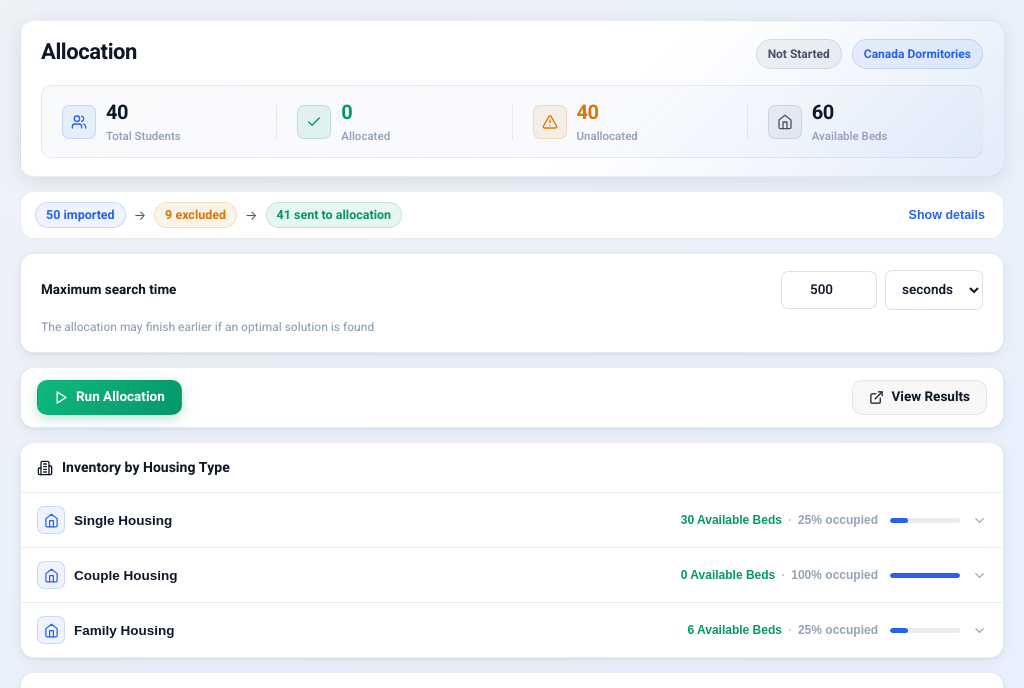
Test case: AllocationPage initial load › shows the population summary and reveals the exclusion breakdown on demand
This screenshot has width=1024, height=688.
Expected: the button "View Results" is shown, [852, 380, 987, 415]
Expected: the text "50 imported" is shown, [35, 202, 126, 228]
What coordinates should you click on to do the following:
click the button "Show details"
I would click on:
 (947, 215)
Its box is [905, 206, 989, 224].
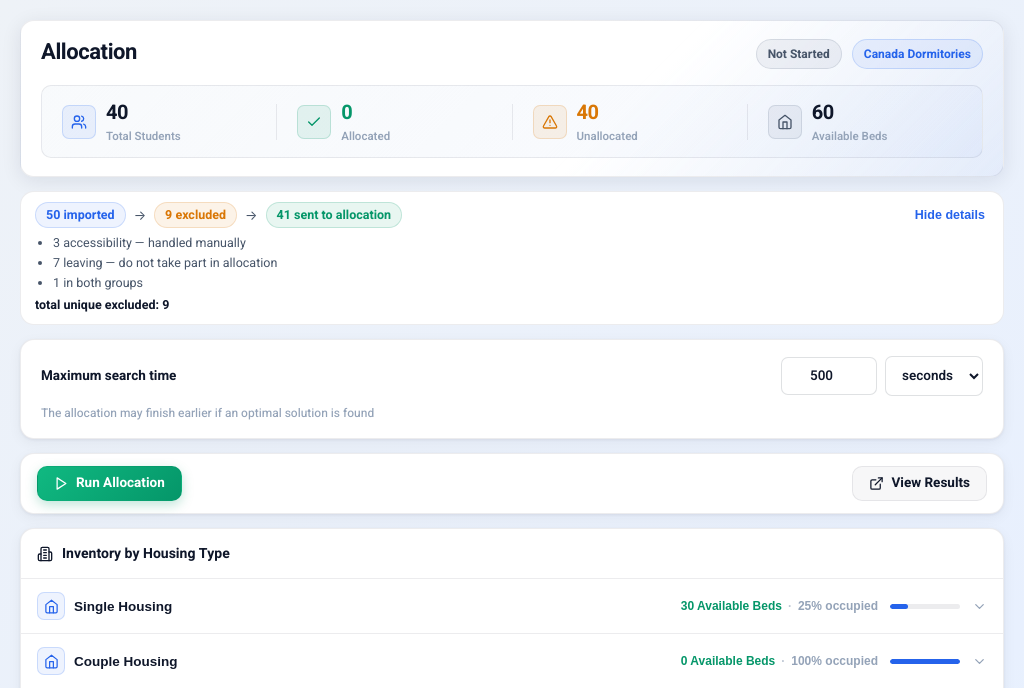
Expected: the button "Hide details" is expanded, [911, 206, 989, 224]
Expected: the list item "3 accessibility — handled manually" is shown, [53, 234, 246, 252]
Expected: the list item "7 leaving — do not take part in allocation" is shown, [53, 254, 277, 272]
